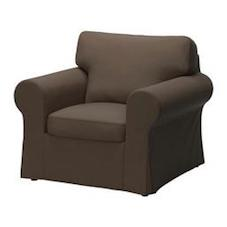chair: (4, 4, 216, 205)
